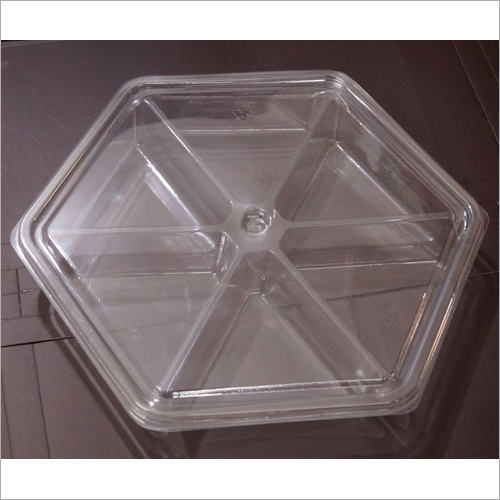PlasticBox: (3, 64, 495, 439)
